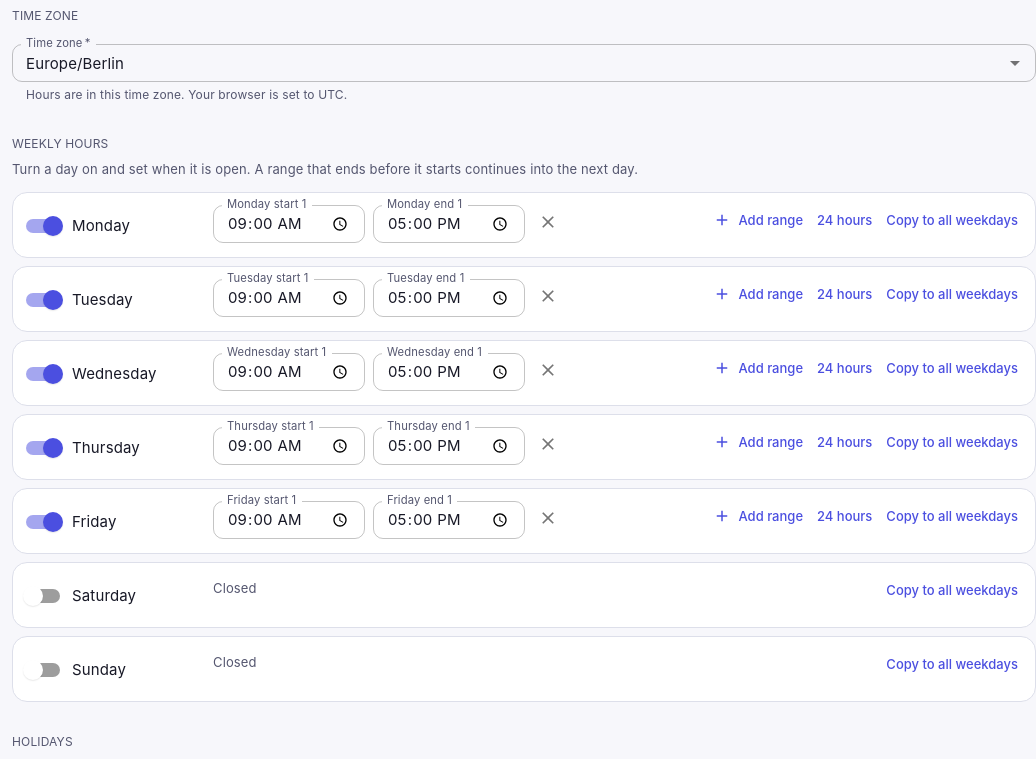
BusinessHoursEditor › opens and closes a day and announces it
The width and height of the screenshot is (1036, 759).
Click the switch named "Saturday open" at (80, 596), box [23,586,136,606]
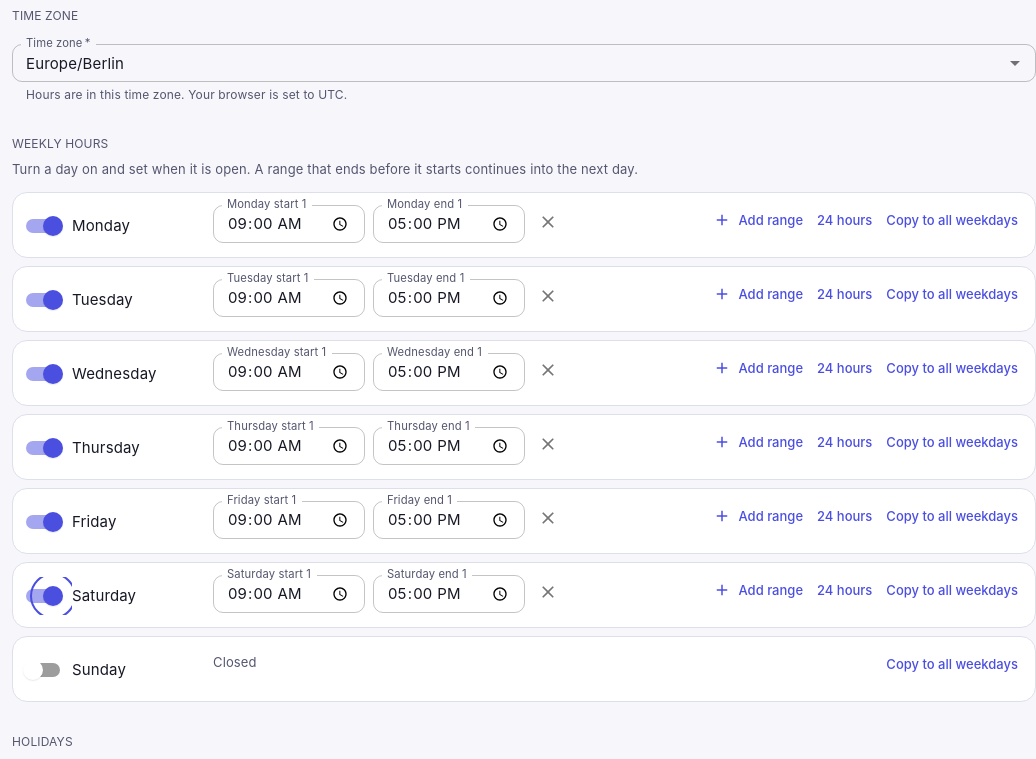
Check: the time field labelled "Saturday start 1" is shown, box [213,575,365,614]
Click the switch named "Monday open" at (78, 226), box [26,216,130,236]
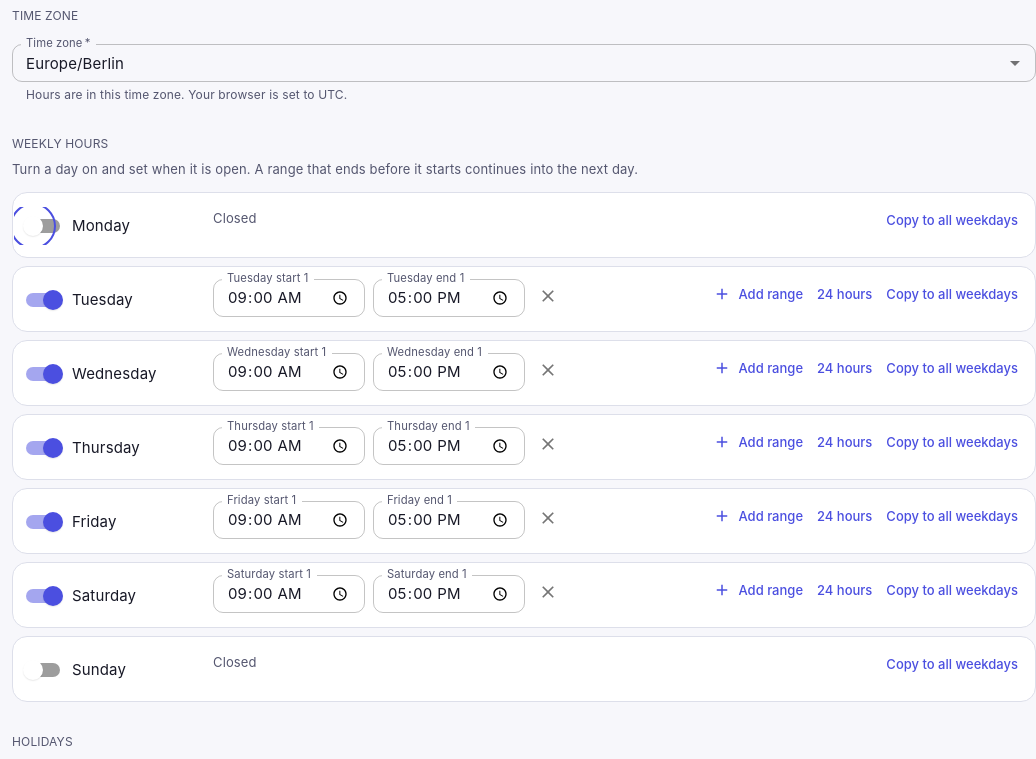
Check: the label labelled "Monday start 1" is gone
